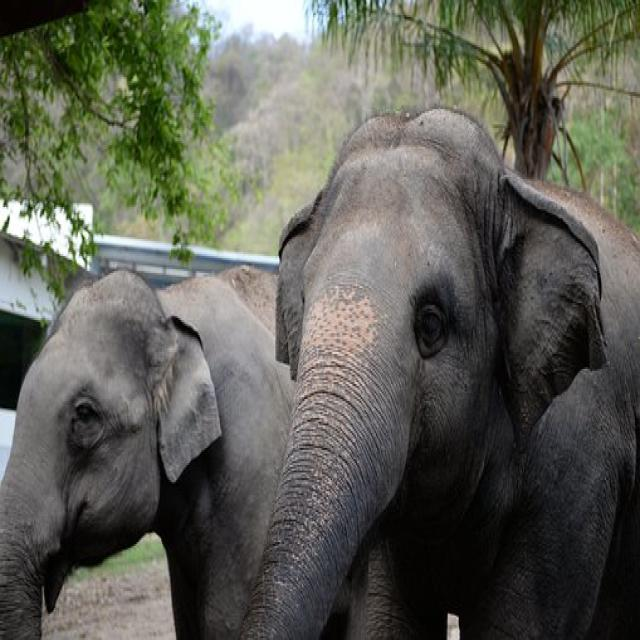Elephant: (259, 87, 640, 632), (0, 197, 284, 640)
